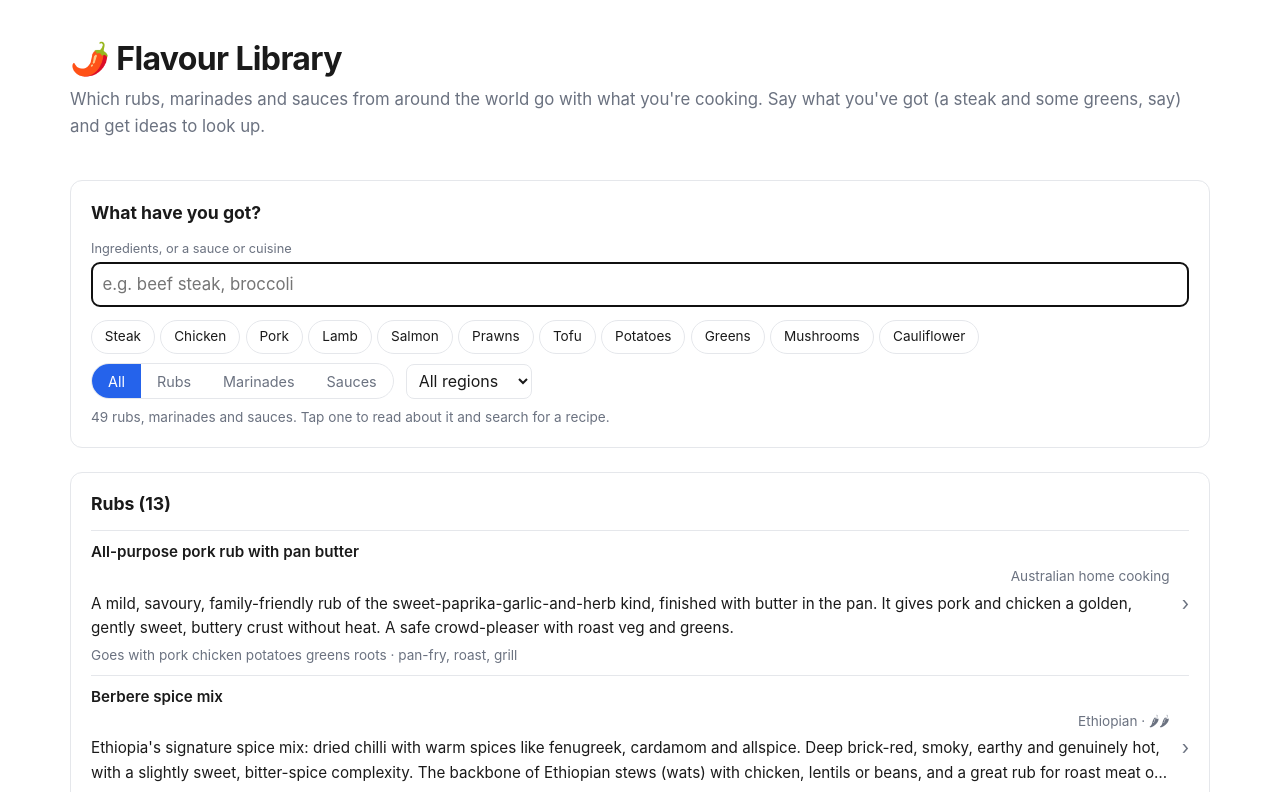
pages render › flavours: suggests for what you've got, and filters
The image size is (1280, 792).
In the search field labelled "Ingredients": x=640, y=284 [91,262,1189,307], type "steak, broccoli"
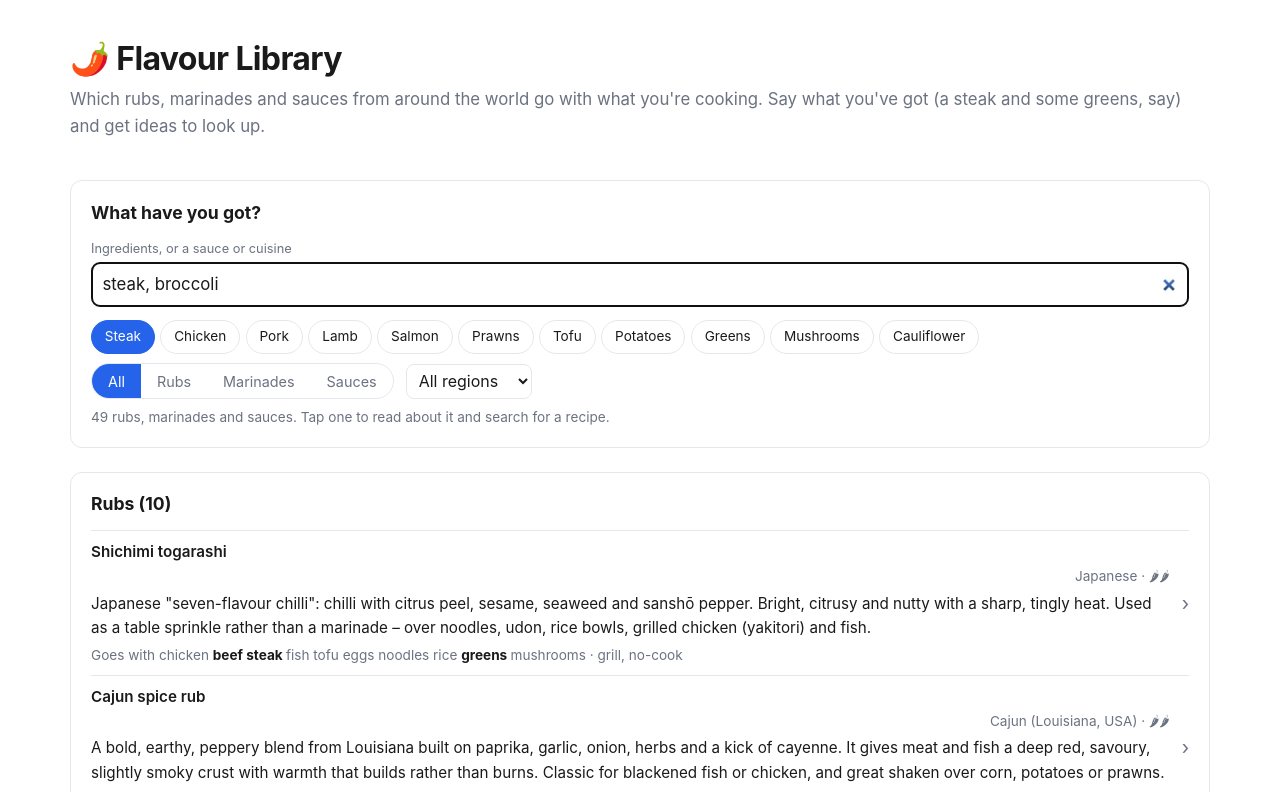
Click the button "Rubs": x=174, y=381 [141,364,207,398]
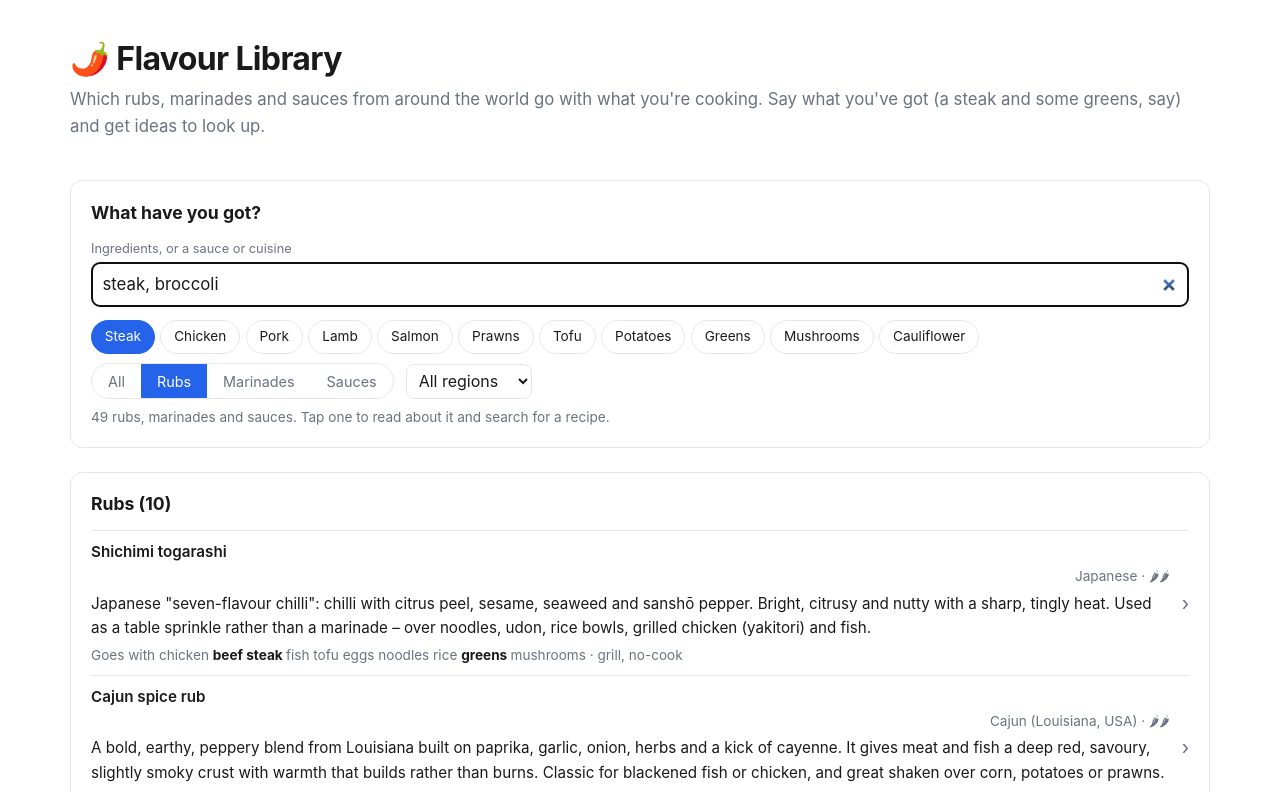
Click the button "All": x=116, y=381 [92,364,141,398]
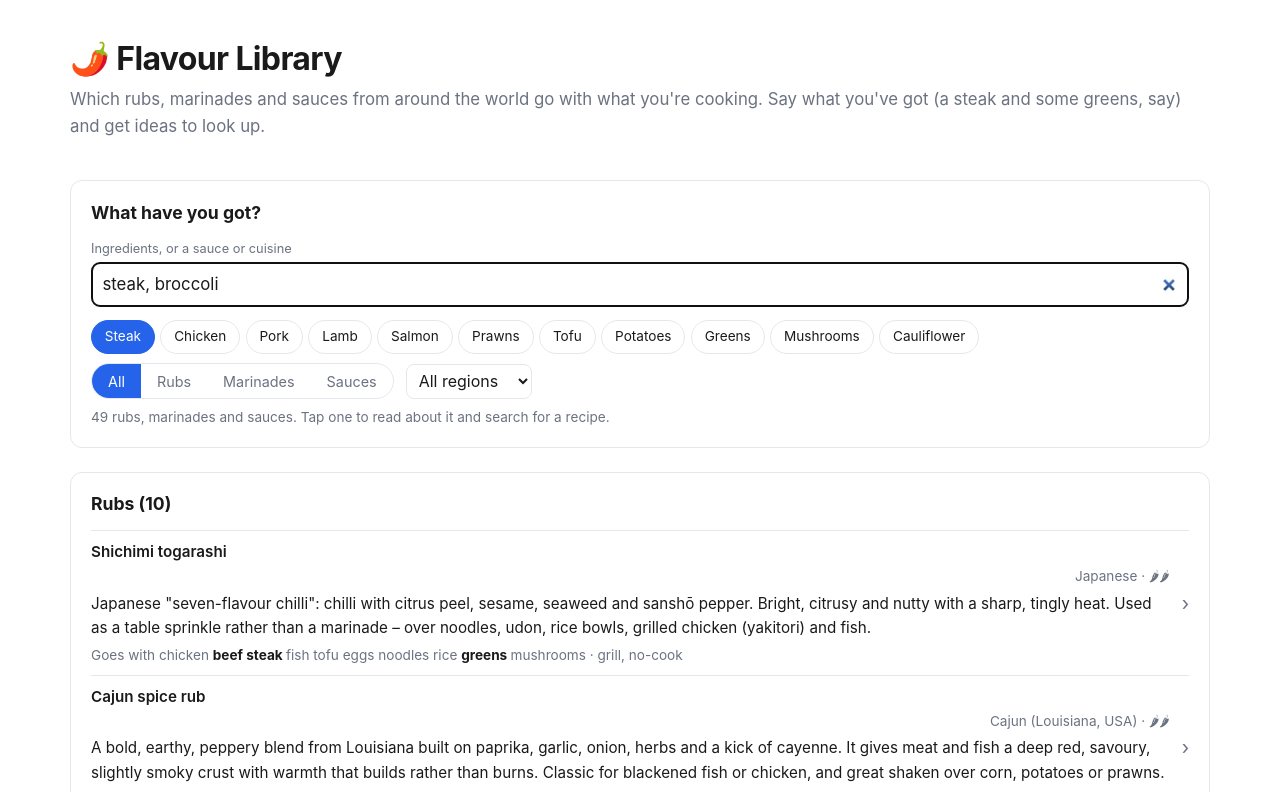
Clear the search field labelled "Ingredients": x=640, y=284 [91,262,1189,307]
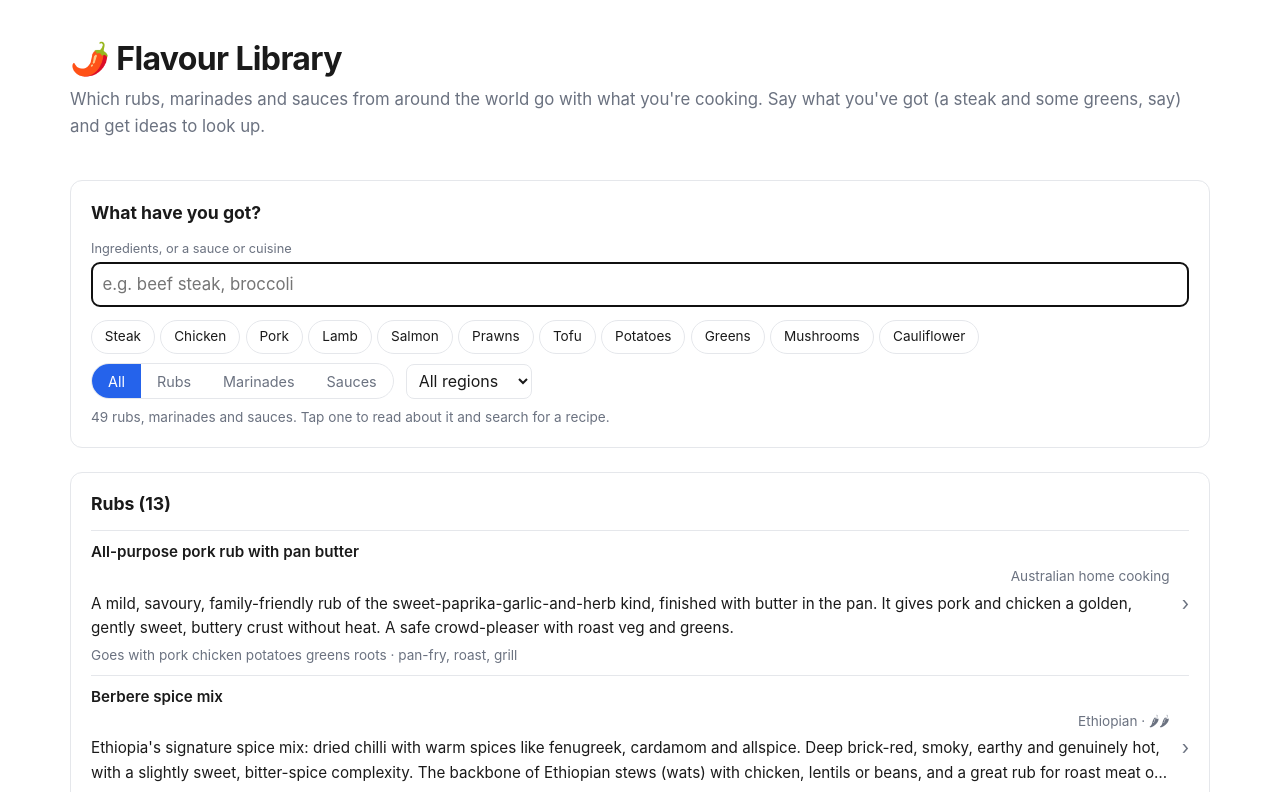
Click the button "Salmon": x=415, y=337 [377,320,452,354]
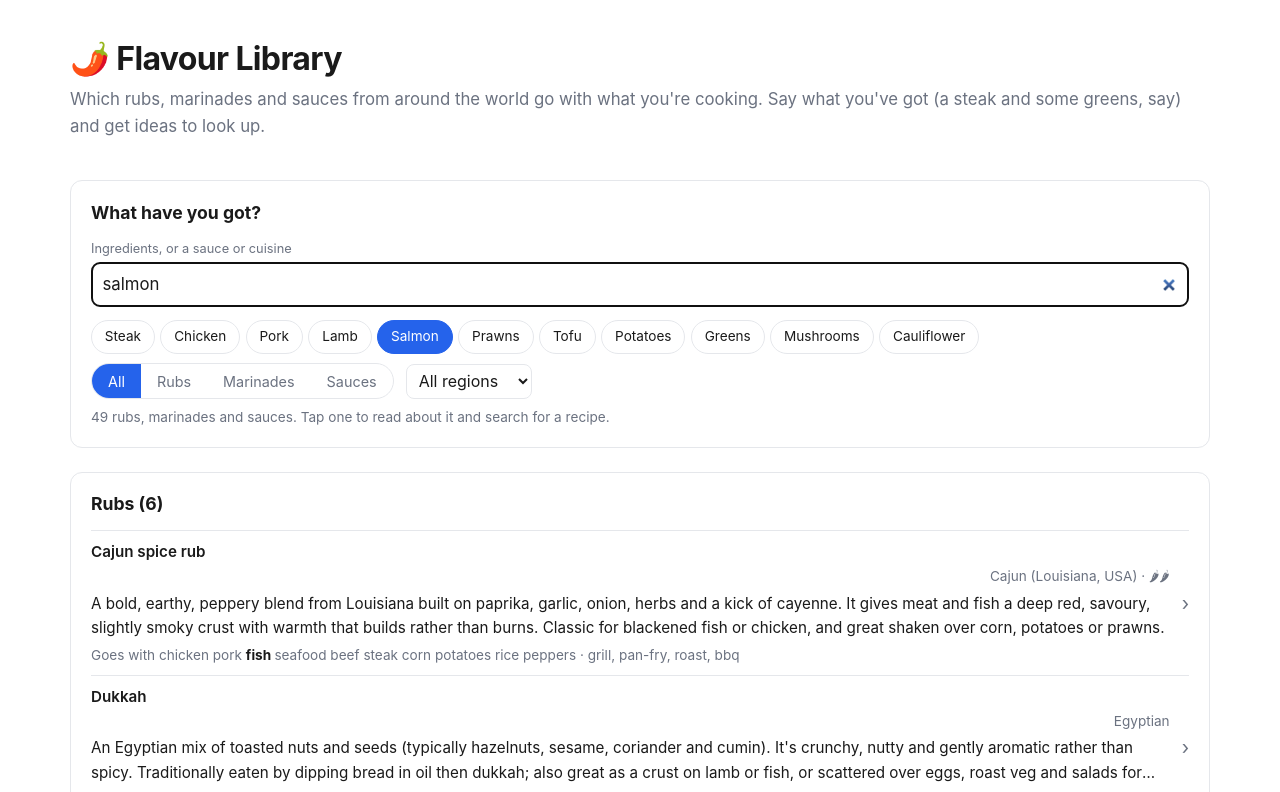
Result: the search field labelled "Ingredients" holds "salmon"
Replace the text in the search field labelled "Ingredients" with "xyzzy": x=640, y=284 [91,262,1189,307]
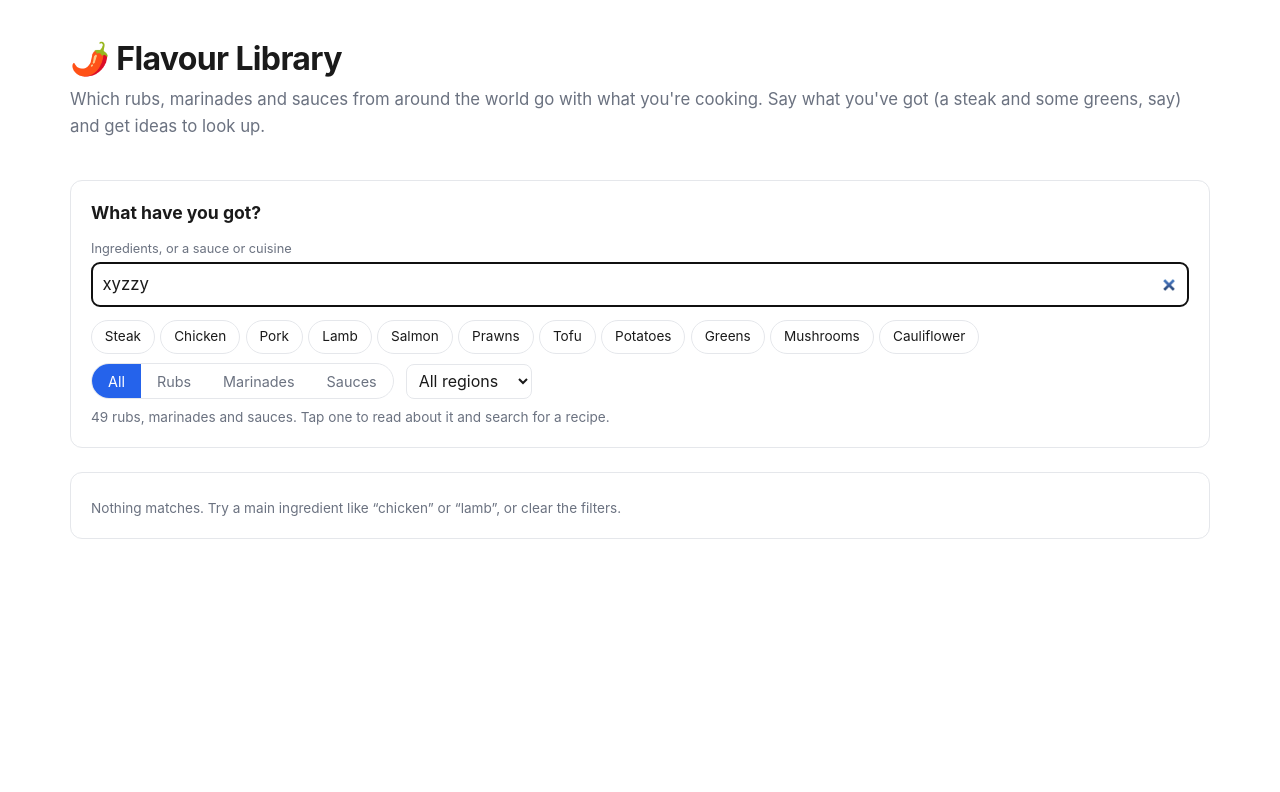
Result: the text "Nothing matches" is shown at [91,500,621,516]
